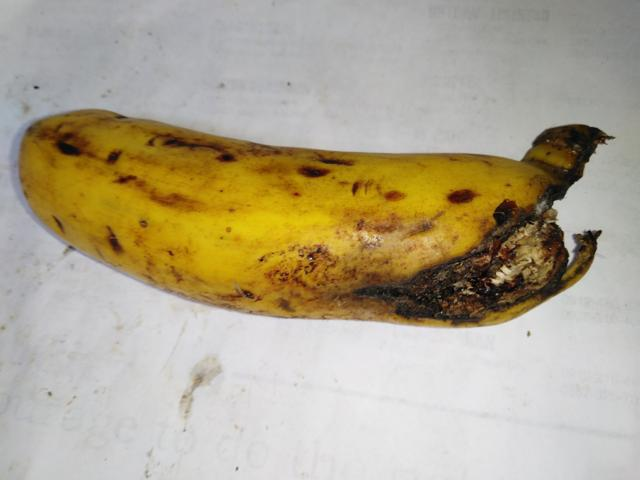rotten: (320, 104, 639, 359)
